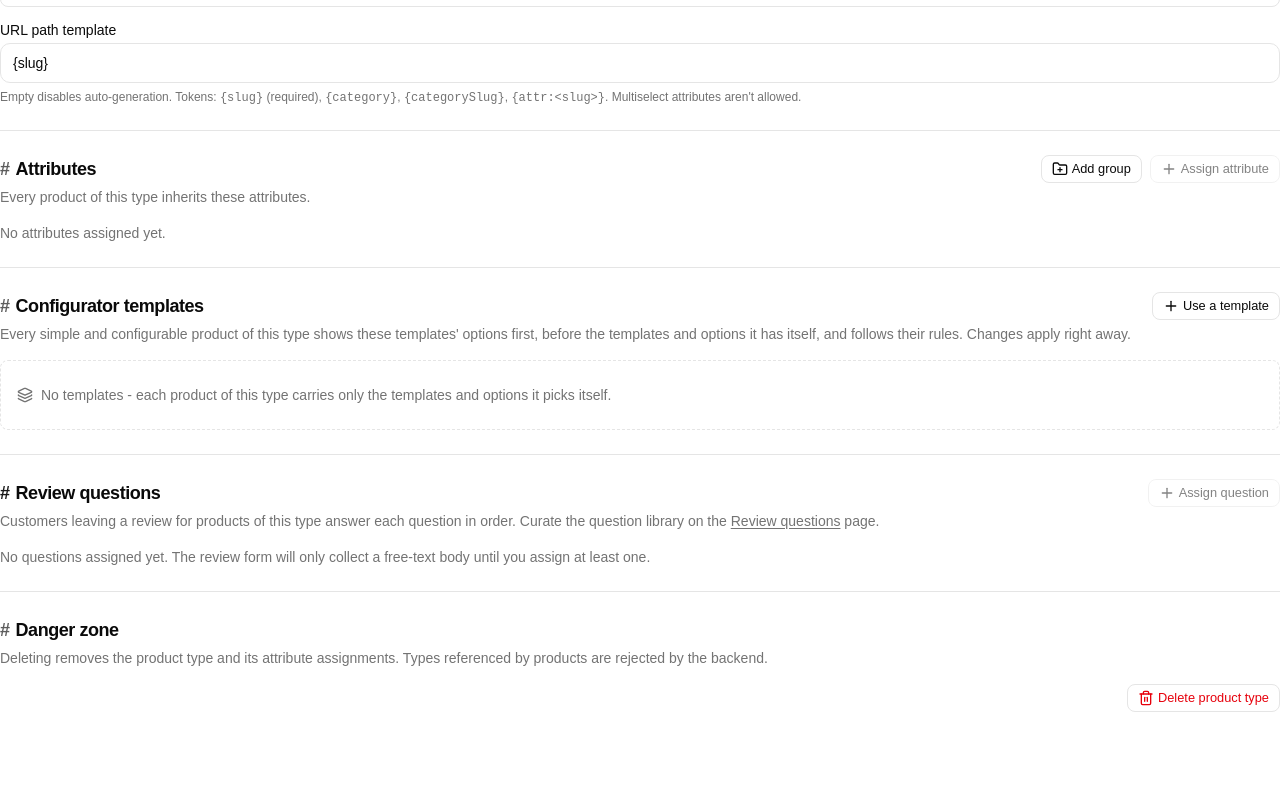
Test case: ProductTypeDetail delete › keeps the dialog open and shows a refused delete
(page scrolled)
Click the button "Delete product type" at (1204, 698), box [1127, 684, 1279, 712]
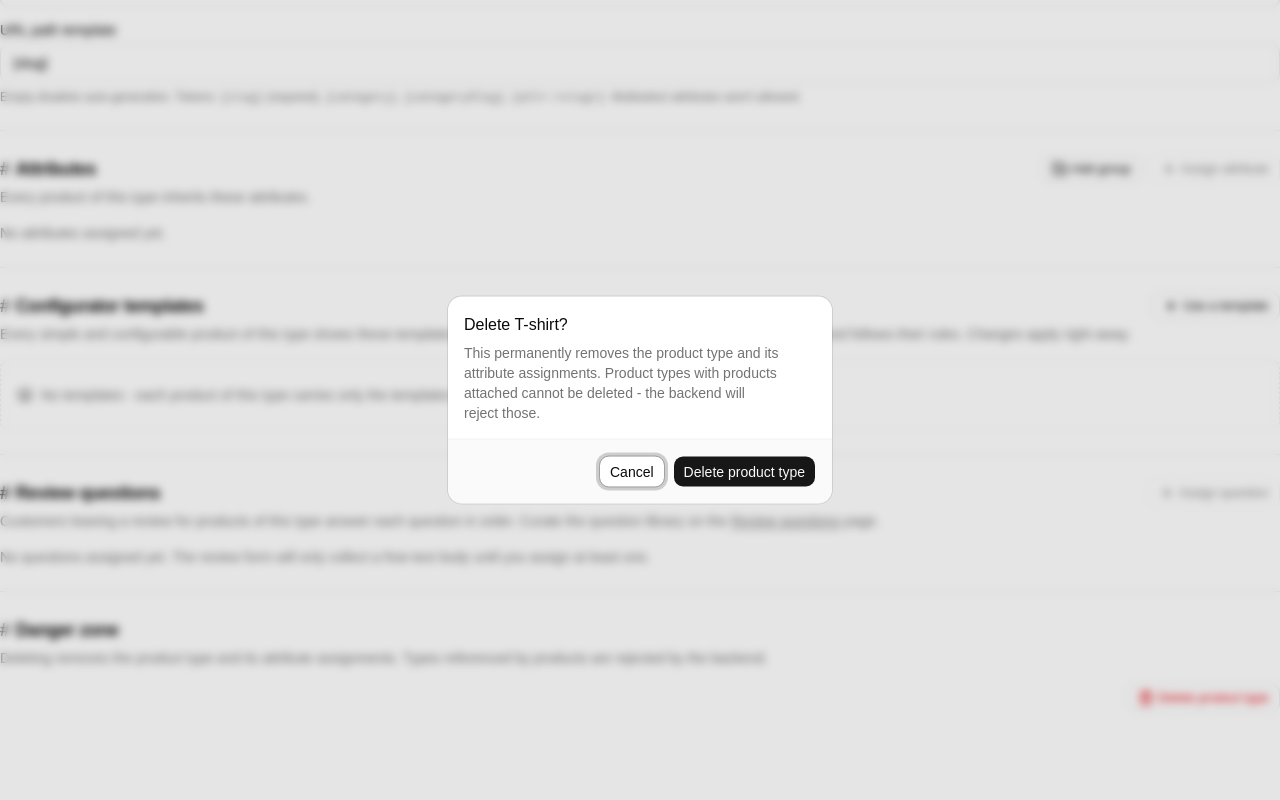
Click the button "Delete product type" at (744, 472), box [673, 456, 816, 488]
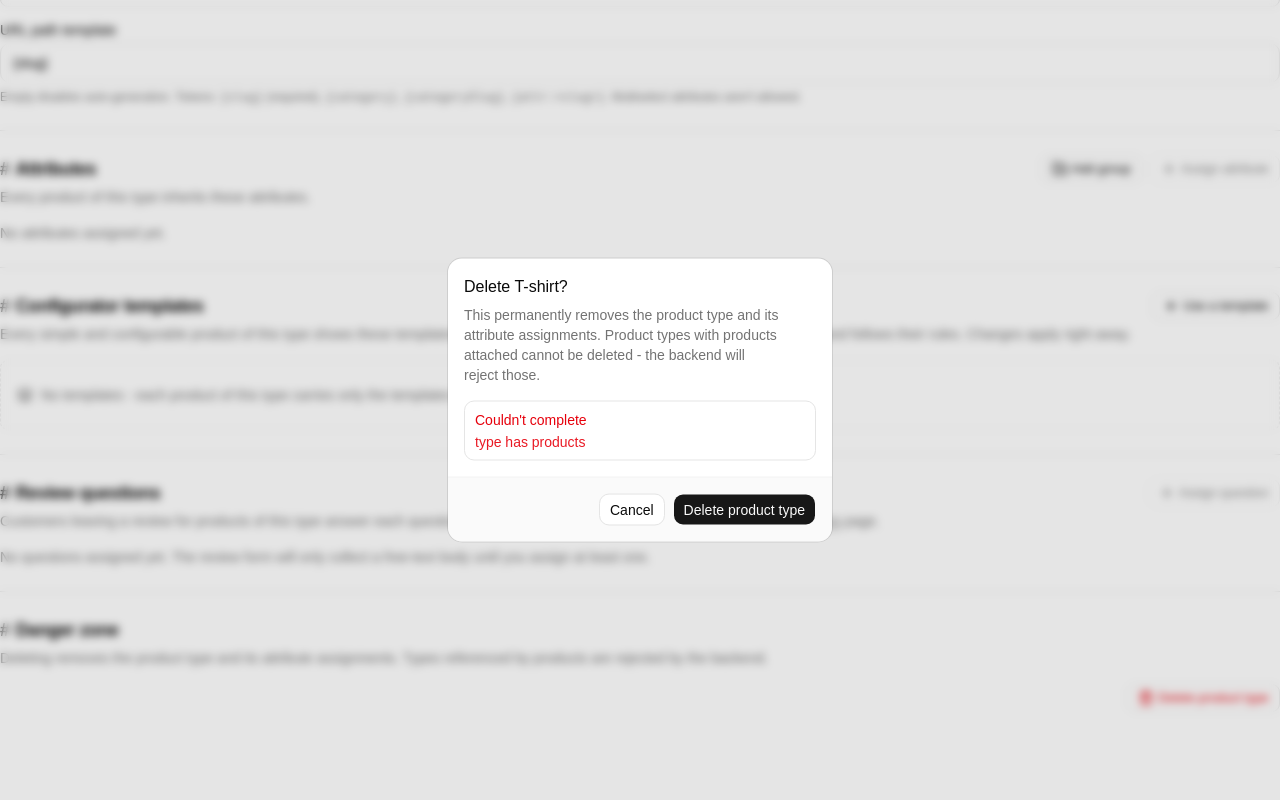
Check: the text "type has products" is shown, box [475, 434, 586, 450]
